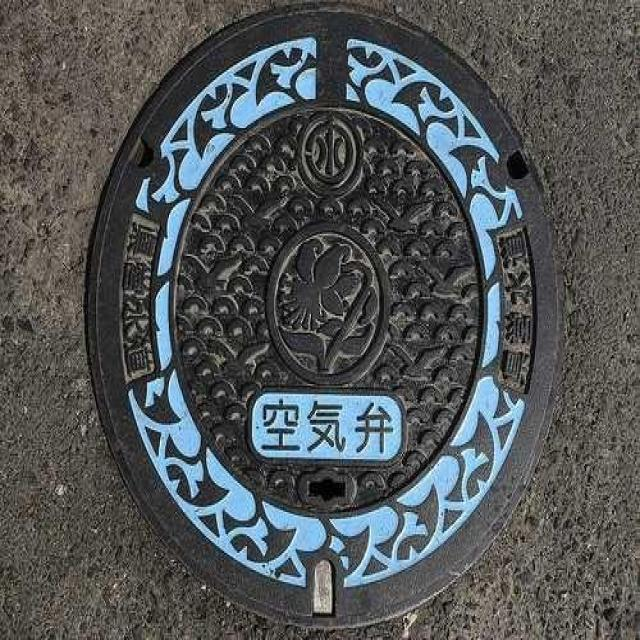manhole: (83, 7, 562, 633)
